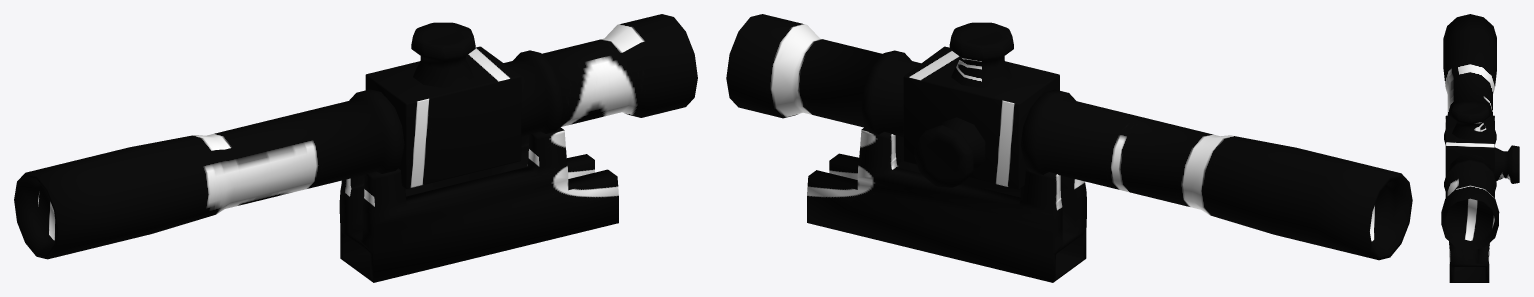
Rendered from pricel.FBX.
3 renders of one model, left to right at view 1: azimuth 30°, elevation 25°; view 2: azimuth 150°, elevation 25°; view 3: azimuth 270°, elevation 25°, orthographic. The views are drawn at different scales.
Parts seen in each view (by area): view 1: World war 2 sniper gun 3dislands.blogspot.com; view 2: World war 2 sniper gun 3dislands.blogspot.com; view 3: World war 2 sniper gun 3dislands.blogspot.com.
Boxes of the visible parts, <box> form: World war 2 sniper gun 3dislands.blogspot.com: <box>14,14,697,282</box>; World war 2 sniper gun 3dislands.blogspot.com: <box>726,14,1412,282</box>; World war 2 sniper gun 3dislands.blogspot.com: <box>1441,14,1519,282</box>.
Bounding box in the file's own units: 90.28 × 28.99 × 15.98.
